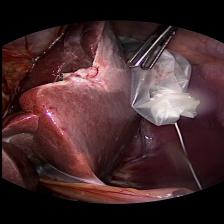Grasper: (122, 26, 176, 72)
Specimen Bag: (120, 38, 198, 132)
